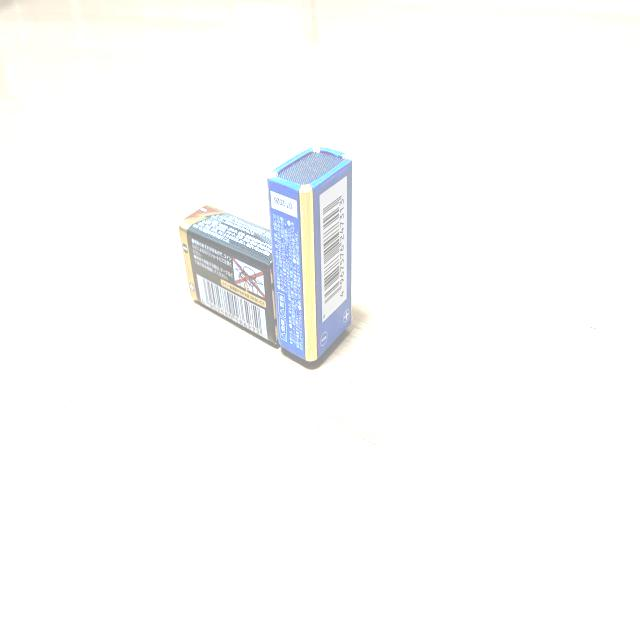9V: (268, 146, 354, 367), (179, 204, 284, 350)
